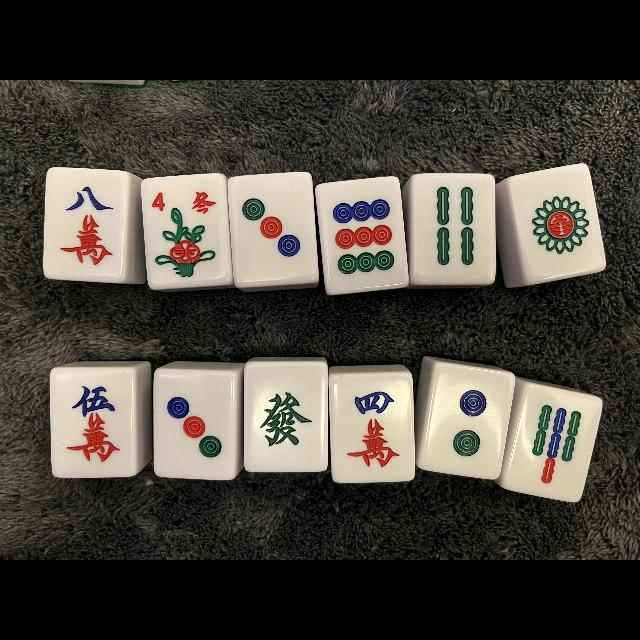b4: (413, 174, 492, 280)
b7: (516, 393, 590, 495)
c4: (332, 376, 413, 480)
c5: (51, 369, 135, 475)
c8: (46, 170, 124, 276)
d1: (516, 170, 600, 278)
d2: (431, 368, 504, 472)
d3: (232, 174, 314, 284), (155, 373, 235, 479)
d9: (322, 179, 404, 291)
dg: (245, 366, 325, 470)
s4: (146, 178, 224, 220)
